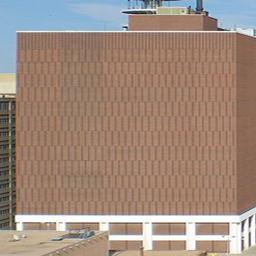building: (13, 0, 242, 251)
